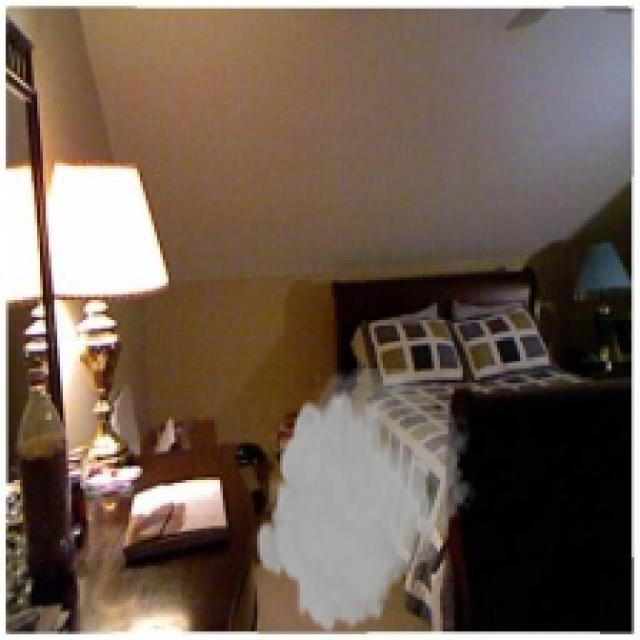Smoke: (254, 368, 477, 638)
